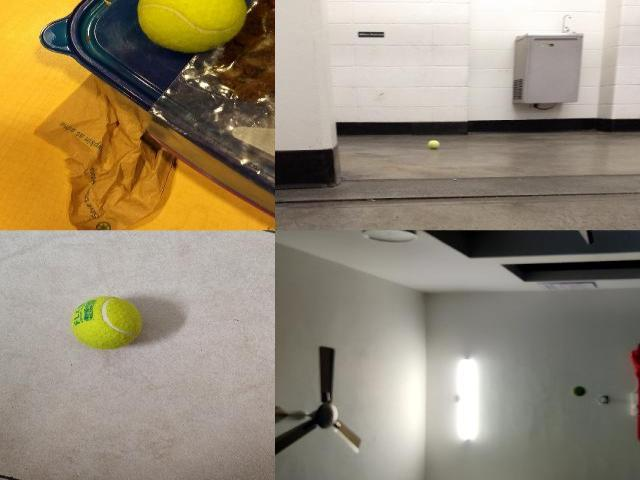tennis-ball: (136, 0, 248, 54), (70, 296, 142, 349), (570, 386, 584, 397), (427, 140, 439, 148)
